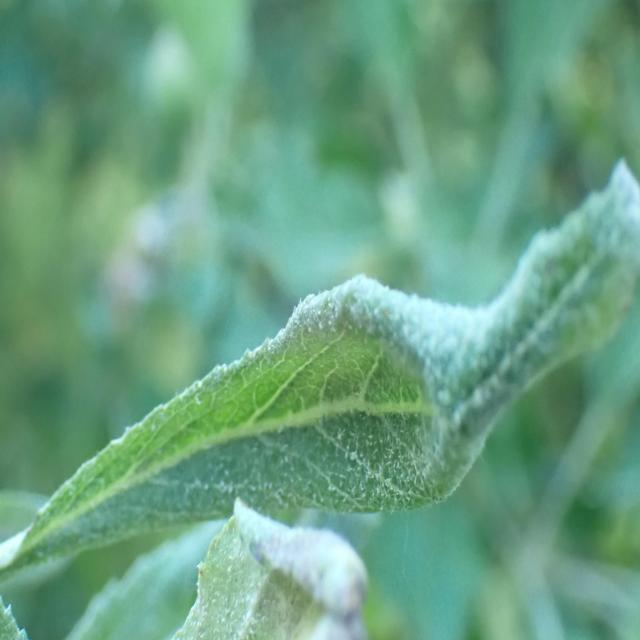Powdery_mildew: (25, 150, 640, 592), (151, 493, 372, 640)
